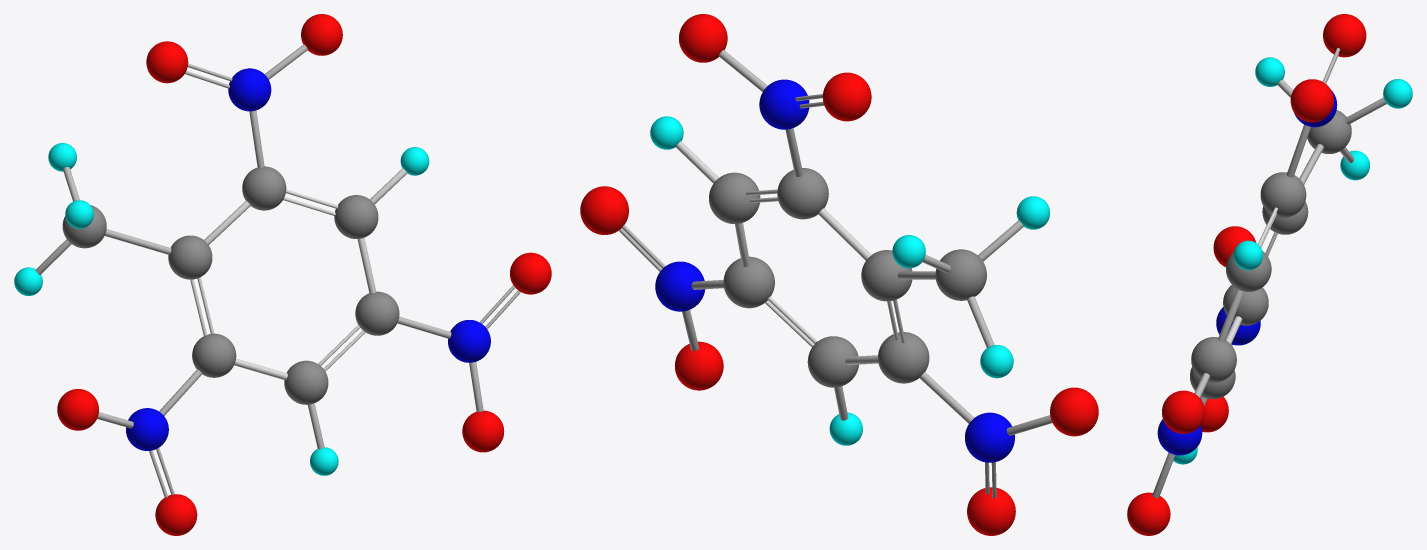
File: 2,4,6-trinitrotoluene.glb
3 views of the same model, side by side, from view 1: azimuth 30°, elevation 25°; view 2: azimuth 150°, elevation 25°; view 3: azimuth 270°, elevation 25° (orthographic). The views are drawn at different scales.
Parts seen in each view (by area): view 1: CMAtom_2, CMAtom_3, CMAtom_0, CMAtom_5, CMAtom_1, CMAtom_4, CMAtom_16, CMAtom_10, CMAtom_15, CMAtom_19, CMAtom_20, CMAtom_8 (+9 smaller); view 2: CMAtom_0, CMAtom_5, CMAtom_2, CMAtom_1, CMAtom_4, CMAtom_11, CMAtom_15, CMAtom_16, CMAtom_10, CMAtom_9, CMAtom_20, CMAtom_8 (+9 smaller); view 3: CMAtom_5, CMAtom_2, CMAtom_18, CMAtom_8, CMAtom_17, CMAtom_20, CMAtom_11, CMAtom_0, CMAtom_1, CMAtom_10, CMAtom_9, CMAtom_19 (+11 smaller).
Part boxes in pixels (x1=…): CMAtom_2: x1=355, y1=291, x2=399, y2=335; CMAtom_3: x1=168, y1=235, x2=212, y2=279; CMAtom_0: x1=192, y1=333, x2=236, y2=377; CMAtom_5: x1=242, y1=166, x2=286, y2=210; CMAtom_1: x1=334, y1=195, x2=378, y2=238; CMAtom_4: x1=284, y1=360, x2=328, y2=404; CMAtom_16: x1=228, y1=68, x2=271, y2=111; CMAtom_10: x1=448, y1=320, x2=490, y2=362; CMAtom_15: x1=126, y1=408, x2=168, y2=450; CMAtom_19: x1=155, y1=494, x2=197, y2=535; CMAtom_20: x1=146, y1=41, x2=188, y2=83; CMAtom_8: x1=510, y1=252, x2=551, y2=294; CMAtom_0: x1=878, y1=332, x2=929, y2=383; CMAtom_5: x1=777, y1=168, x2=828, y2=219; CMAtom_2: x1=723, y1=256, x2=774, y2=308; CMAtom_1: x1=709, y1=172, x2=760, y2=223; CMAtom_4: x1=807, y1=336, x2=858, y2=387; CMAtom_11: x1=935, y1=249, x2=986, y2=300; CMAtom_15: x1=965, y1=412, x2=1014, y2=462; CMAtom_16: x1=759, y1=79, x2=809, y2=129; CMAtom_10: x1=655, y1=261, x2=705, y2=311; CMAtom_9: x1=1050, y1=387, x2=1098, y2=436; CMAtom_20: x1=822, y1=72, x2=871, y2=121; CMAtom_8: x1=580, y1=186, x2=628, y2=234; CMAtom_5: x1=1260, y1=172, x2=1306, y2=217; CMAtom_2: x1=1191, y1=337, x2=1236, y2=382; CMAtom_18: x1=1290, y1=79, x2=1333, y2=122; CMAtom_8: x1=1162, y1=390, x2=1205, y2=433; CMAtom_17: x1=1127, y1=492, x2=1170, y2=535; CMAtom_20: x1=1323, y1=14, x2=1366, y2=57; CMAtom_11: x1=1307, y1=110, x2=1351, y2=153; CMAtom_0: x1=1223, y1=285, x2=1268, y2=325; CMAtom_1: x1=1226, y1=251, x2=1271, y2=291; CMAtom_10: x1=1157, y1=419, x2=1202, y2=455; CMAtom_9: x1=1213, y1=226, x2=1256, y2=267; CMAtom_19: x1=1201, y1=396, x2=1228, y2=432.
Size of the model in its own units: 7.47 by 6.66 by 3.85.
